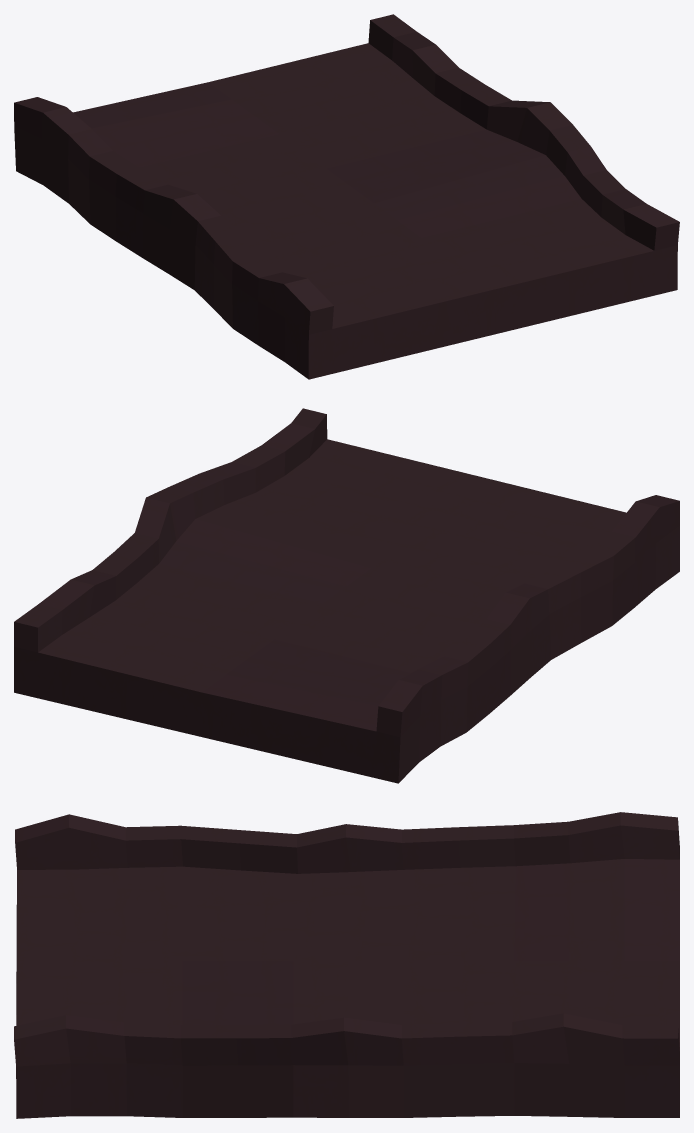
Rendered from Road_DarkStoneReal.fbx.
The picture shows the model from 3 angles, top to bottom: view 1: azimuth 30°, elevation 25°; view 2: azimuth 150°, elevation 25°; view 3: azimuth 270°, elevation 25°; orthographic projection. The views are drawn at different scales.
Parts seen in each view (by area): view 1: Road_Tile_Rock_Red; view 2: Road_Tile_Rock_Red; view 3: Road_Tile_Rock_Red.
Part boxes in pixels (<box>): Road_Tile_Rock_Red: <box>14,14,679,379</box>; Road_Tile_Rock_Red: <box>14,408,679,783</box>; Road_Tile_Rock_Red: <box>14,812,679,1118</box>.
Bounding box in the file's own units: 422 × 83.76 × 529.
Materials: 1 (1 with a texture image).
